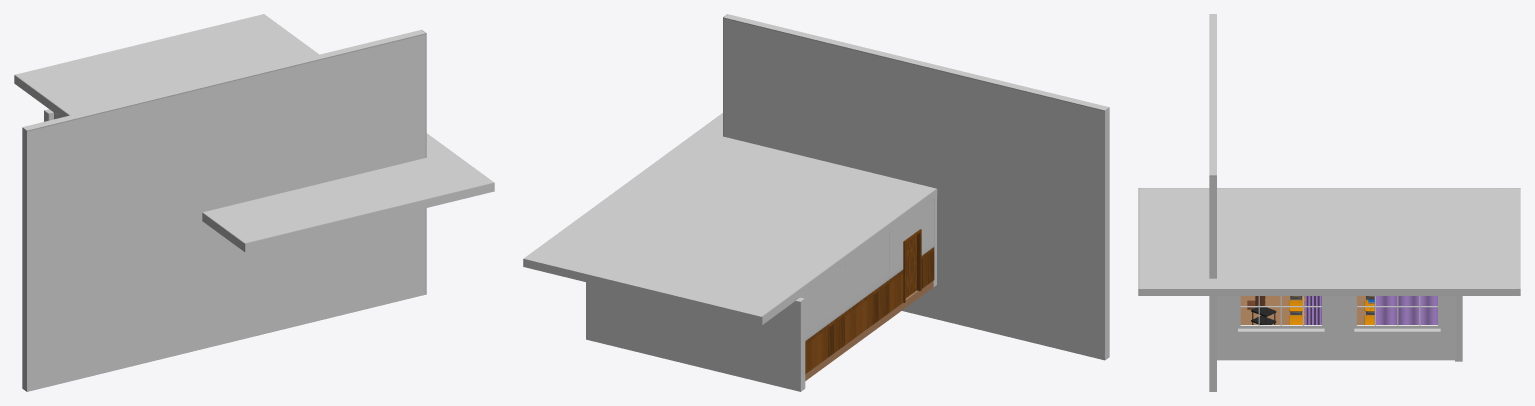
Rendered from classroom_demoscene backup.glb.
The picture shows the model from 3 angles, left to right: view 1: azimuth 30°, elevation 25°; view 2: azimuth 150°, elevation 25°; view 3: azimuth 270°, elevation 25°; orthographic projection. The views are drawn at different scales.
Visible parts, largest first — view 1: wall. 4, wall. 3; view 2: wall. 4, wall. 3, wall.003, wall.002, wall. 2, walldoor.002, FLOOR, ExitDoor; view 3: wall. 3, wall - piece 1, wall. 4, Cylinder.015, FLOOR, wall.003, Plane.009, wall - piece 23, wall - piece 24, wall - piece 5, wall - piece 25, Cube.012.
Part boxes in pixels (x1=…): wall. 4: x1=22, y1=29, x2=426, y2=391; wall. 3: x1=14, y1=14, x2=494, y2=252; wall. 4: x1=723, y1=14, x2=1109, y2=360; wall. 3: x1=523, y1=113, x2=937, y2=324; wall.003: x1=586, y1=282, x2=805, y2=391; wall.002: x1=845, y1=232, x2=889, y2=344; wall. 2: x1=800, y1=264, x2=844, y2=373; walldoor.002: x1=889, y1=199, x2=934, y2=312; FLOOR: x1=805, y1=281, x2=933, y2=380; ExitDoor: x1=905, y1=235, x2=916, y2=298; wall. 3: x1=1138, y1=188, x2=1520, y2=295; wall - piece 1: x1=1217, y1=296, x2=1455, y2=360; wall. 4: x1=1209, y1=14, x2=1216, y2=391; Cylinder.015: x1=1374, y1=296, x2=1437, y2=324; FLOOR: x1=1240, y1=296, x2=1374, y2=324; wall.003: x1=1455, y1=296, x2=1462, y2=361; Plane.009: x1=1304, y1=296, x2=1321, y2=324; wall - piece 23: x1=1238, y1=296, x2=1324, y2=328; wall - piece 24: x1=1354, y1=296, x2=1440, y2=328; wall - piece 5: x1=1238, y1=328, x2=1324, y2=331; wall - piece 25: x1=1354, y1=328, x2=1440, y2=331; Cube.012: x1=1251, y1=305, x2=1276, y2=324.
Size of the model in its own units: 17.02 by 10 by 16.
123 materials, 122 textured.
